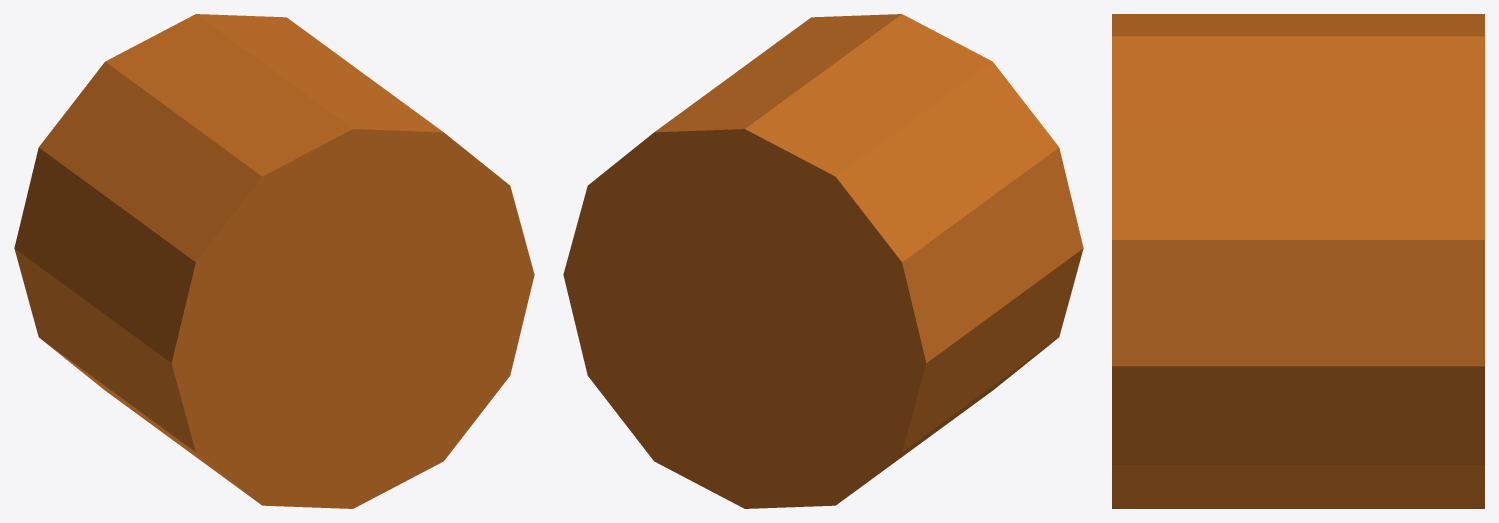
3 views of the same model, side by side, from view 1: azimuth 30°, elevation 25°; view 2: azimuth 150°, elevation 25°; view 3: azimuth 270°, elevation 25° (orthographic). The views are drawn at different scales.
Parts seen in each view (by area): view 1: pCylinder1; view 2: pCylinder1; view 3: pCylinder1.
Part boxes in pixels (x1,y1,x2,y2): pCylinder1: (14,14,534,508); pCylinder1: (563,14,1083,508); pCylinder1: (1112,14,1484,508).
Bounding box in the file's own units: 2 × 2 × 1.5.
